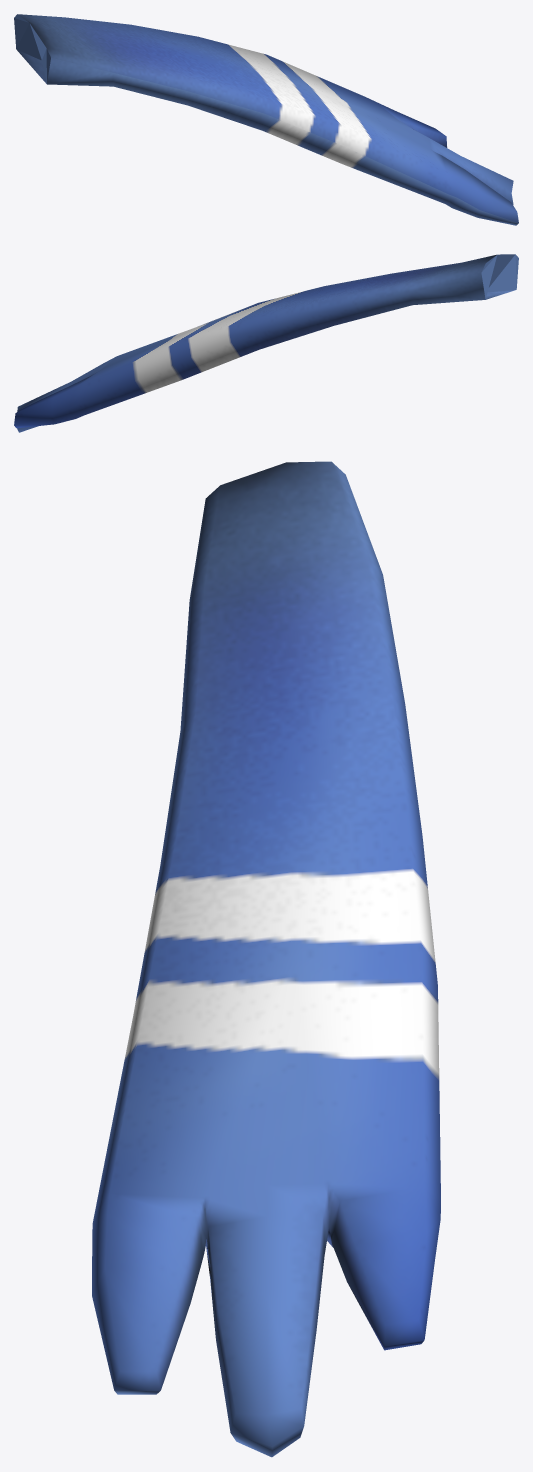
The model's file is MordecaiBrazoIzq.obj.
3 renders of one model, top to bottom at view 1: azimuth 30°, elevation 25°; view 2: azimuth 150°, elevation 25°; view 3: azimuth 270°, elevation 25°, orthographic. The views are drawn at different scales.
Parts seen in each view (by area): view 1: mordecay_game_play_001; view 2: mordecay_game_play_001; view 3: mordecay_game_play_001.
Part boxes in pixels (x1,y1,x2,y2): mordecay_game_play_001: [14, 14, 518, 225]; mordecay_game_play_001: [14, 254, 518, 432]; mordecay_game_play_001: [92, 461, 440, 1457].
Size of the model in its own units: 0.606 by 0.3562 by 0.2023.
